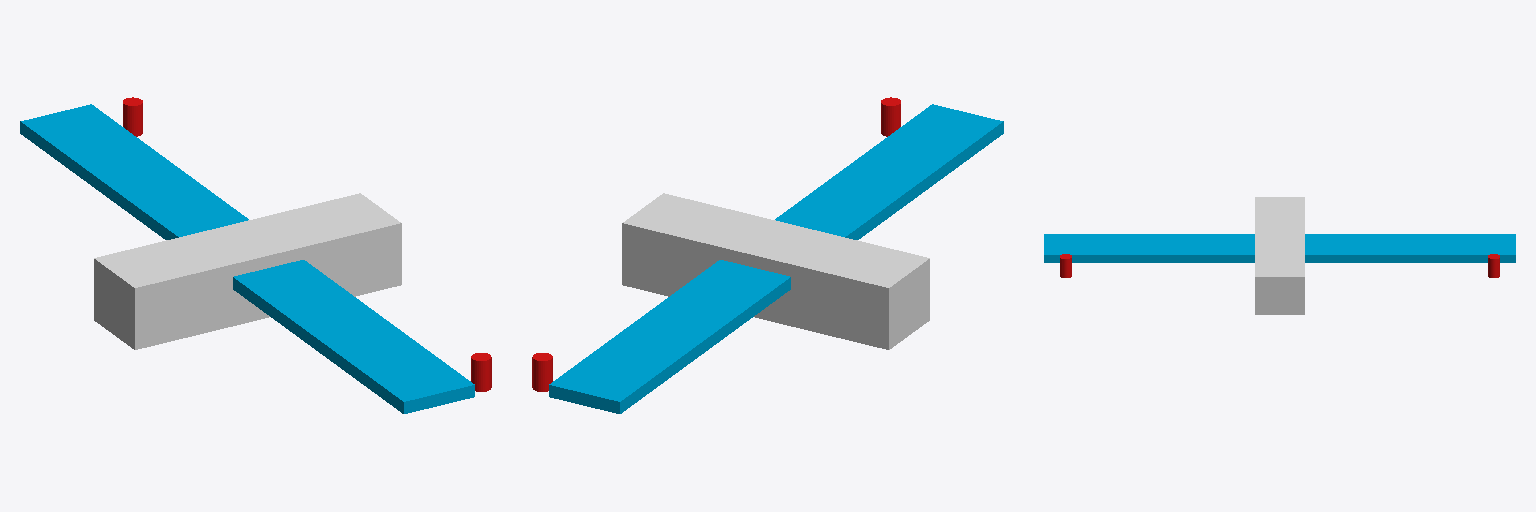
The robot description file, URDF, robot "evolved_vtol_vtol_tilt_rotor":
<?xml version="1.0"?>
<robot name="evolved_vtol_vtol_tilt_rotor">
  <!-- Main Fuselage Body -->
  <link name="base_link">
    <inertial>
      <mass value="0.8700"/>
      <inertia ixx="0.001769" ixy="0" ixz="0" iyy="0.015406" iyz="0" izz="0.015725"/>
    </inertial>
    <visual>
      <geometry>
        <box size="0.45 0.12 0.10"/>
      </geometry>
      <material name="white"><color rgba="0.9 0.9 0.9 1.0"/></material>
    </visual>
    <collision>
      <geometry><box size="0.45 0.12 0.10"/></geometry>
    </collision>
  </link>
  <!-- Main Aerodynamic Wings -->
  <link name="main_wing">
    <inertial>
      <mass value="0.0242"/>
      <inertia ixx="0.005" ixy="0" ixz="0" iyy="0.001" iyz="0" izz="0.006"/>
    </inertial>
    <visual>
      <geometry>
        <box size="0.120 1.120 0.02"/>
      </geometry>
      <material name="cyan"><color rgba="0.0 0.7 0.9 1.0"/></material>
    </visual>
  </link>
  <joint name="joint_fuselage_wing" type="fixed">
    <parent link="base_link"/>
    <child link="main_wing"/>
    <origin xyz="0.0 0.0 0.02" rpy="0 0 0"/>
  </joint>
  <!-- Tilt Servo Motor Mount 0 -->
  <link name="tilt_servo_0">
    <inertial>
      <mass value="0.06"/>
      <inertia ixx="0.0001" ixy="0" ixz="0" iyy="0.0001" iyz="0" izz="0.0001"/>
    </inertial>
    <visual>
      <geometry><cylinder length="0.05" radius="0.015"/></geometry>
      <material name="red"><color rgba="0.9 0.1 0.1 1.0"/></material>
    </visual>
  </link>
  <joint name="joint_tilt_0" type="revolute">
    <parent link="main_wing"/>
    <child link="tilt_servo_0"/>
    <origin xyz="0.10 0.509 0.0" rpy="0 0 0"/>
    <axis xyz="0 1 0"/>
    <limit lower="0.0" upper="1.5708" effort="2.0" velocity="3.0"/>
  </joint>
  <!-- Tilt Servo Motor Mount 1 -->
  <link name="tilt_servo_1">
    <inertial>
      <mass value="0.06"/>
      <inertia ixx="0.0001" ixy="0" ixz="0" iyy="0.0001" iyz="0" izz="0.0001"/>
    </inertial>
    <visual>
      <geometry><cylinder length="0.05" radius="0.015"/></geometry>
      <material name="red"><color rgba="0.9 0.1 0.1 1.0"/></material>
    </visual>
  </link>
  <joint name="joint_tilt_1" type="revolute">
    <parent link="main_wing"/>
    <child link="tilt_servo_1"/>
    <origin xyz="0.10 -0.509 0.0" rpy="0 0 0"/>
    <axis xyz="0 1 0"/>
    <limit lower="0.0" upper="1.5708" effort="2.0" velocity="3.0"/>
  </joint>
  <!-- Tilt Servo Motor Mount 2 -->
  <link name="tilt_servo_2">
    <inertial>
      <mass value="0.06"/>
      <inertia ixx="0.0001" ixy="0" ixz="0" iyy="0.0001" iyz="0" izz="0.0001"/>
    </inertial>
    <visual>
      <geometry><cylinder length="0.05" radius="0.015"/></geometry>
      <material name="red"><color rgba="0.9 0.1 0.1 1.0"/></material>
    </visual>
  </link>
  <joint name="joint_tilt_2" type="revolute">
    <parent link="main_wing"/>
    <child link="tilt_servo_2"/>
    <origin xyz="0.10 0.509 0.0" rpy="0 0 0"/>
    <axis xyz="0 1 0"/>
    <limit lower="0.0" upper="1.5708" effort="2.0" velocity="3.0"/>
  </joint>
  <!-- Tilt Servo Motor Mount 3 -->
  <link name="tilt_servo_3">
    <inertial>
      <mass value="0.06"/>
      <inertia ixx="0.0001" ixy="0" ixz="0" iyy="0.0001" iyz="0" izz="0.0001"/>
    </inertial>
    <visual>
      <geometry><cylinder length="0.05" radius="0.015"/></geometry>
      <material name="red"><color rgba="0.9 0.1 0.1 1.0"/></material>
    </visual>
  </link>
  <joint name="joint_tilt_3" type="revolute">
    <parent link="main_wing"/>
    <child link="tilt_servo_3"/>
    <origin xyz="0.10 -0.509 0.0" rpy="0 0 0"/>
    <axis xyz="0 1 0"/>
    <limit lower="0.0" upper="1.5708" effort="2.0" velocity="3.0"/>
  </joint>
</robot>

--- What the picture shows (computed from the rendered views, not written in the file) ---
3 views of the same robot in one strip: view 1: azimuth 30°, elevation 25°; view 2: azimuth 150°, elevation 25°; view 3: azimuth 270°, elevation 25° (orthographic).
Model evolved_vtol_vtol_tilt_rotor with 6 links and 5 joints (4 revolute, 1 fixed), rooted at base_link, posed all joints at 0.
Links seen in each view (by area): view 1: main_wing, base_link, tilt_servo_1, tilt_servo_0; view 2: main_wing, base_link, tilt_servo_0, tilt_servo_1; view 3: main_wing, base_link.
Link boxes in pixels (x1,y1,x2,y2): main_wing: (20, 104, 474, 413); base_link: (94, 193, 401, 349); tilt_servo_1: (471, 353, 491, 391); tilt_servo_0: (123, 97, 142, 136); main_wing: (549, 104, 1003, 413); base_link: (622, 193, 929, 349); tilt_servo_0: (532, 353, 552, 391); tilt_servo_1: (881, 97, 900, 136); main_wing: (1044, 234, 1515, 262); base_link: (1255, 197, 1304, 314).
Size in the robot's own frame: 0.45 by 1.12 by 0.1 metres.
Geometry: primitives only (box / cylinder / sphere), no mesh files.
